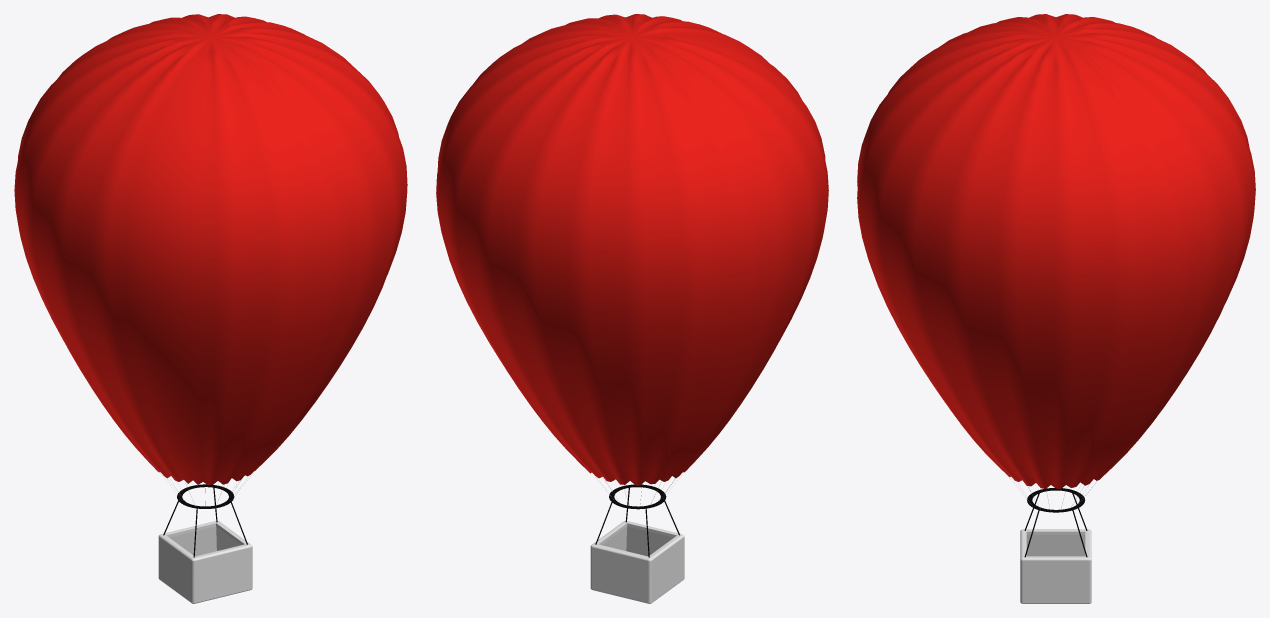
File: uploads_files_3978753_Hot+air+balloon.fbx
3 views of the same model, side by side, from view 1: azimuth 30°, elevation 25°; view 2: azimuth 150°, elevation 25°; view 3: azimuth 270°, elevation 25° (orthographic).
Parts seen in each view (by area): view 1: Sphere, Cube; view 2: Sphere, Cube; view 3: Sphere, Cube.
Part boxes in pixels (box(x1,y1,x2,y2)): Sphere: box(14, 14, 407, 485); Cube: box(158, 521, 252, 603); Sphere: box(436, 14, 828, 485); Cube: box(590, 520, 684, 603); Sphere: box(857, 14, 1255, 488); Cube: box(1020, 529, 1091, 603).
Size of the model in its own units: 635 by 976 by 635.
